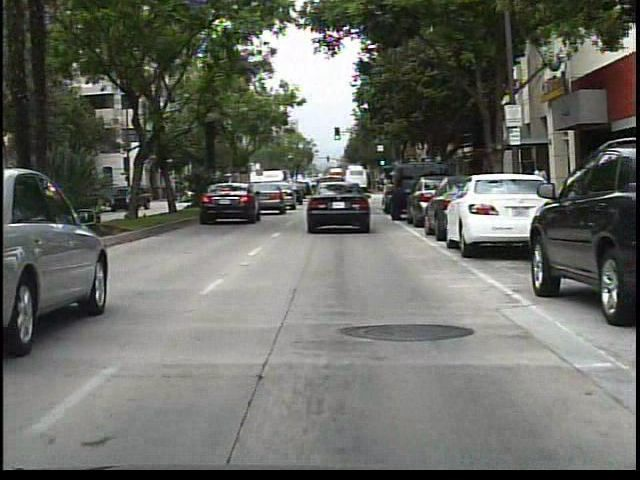person: (529, 157, 552, 221)
